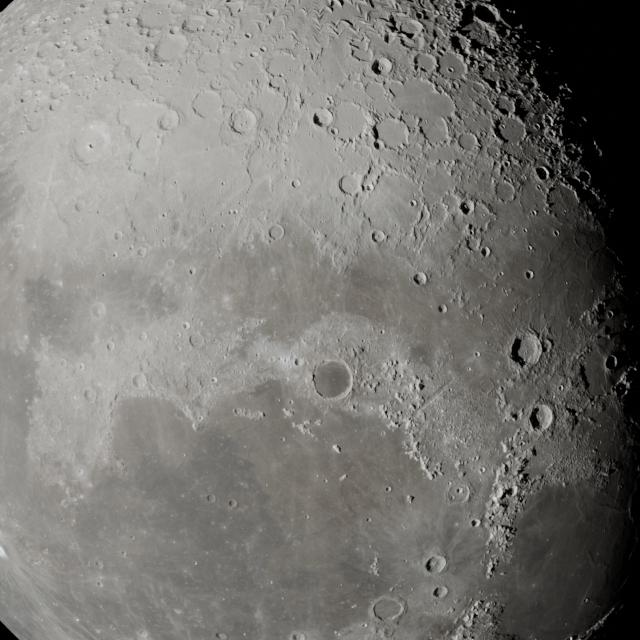crater: (311, 359, 354, 401), (510, 333, 542, 369), (372, 594, 405, 627), (492, 116, 526, 146), (526, 404, 556, 433), (470, 4, 501, 28), (371, 58, 394, 78), (312, 108, 333, 128), (426, 554, 446, 574), (456, 200, 476, 218), (533, 166, 552, 184), (431, 586, 449, 602), (478, 242, 492, 260), (436, 301, 451, 316), (412, 272, 427, 286), (522, 270, 536, 285)
